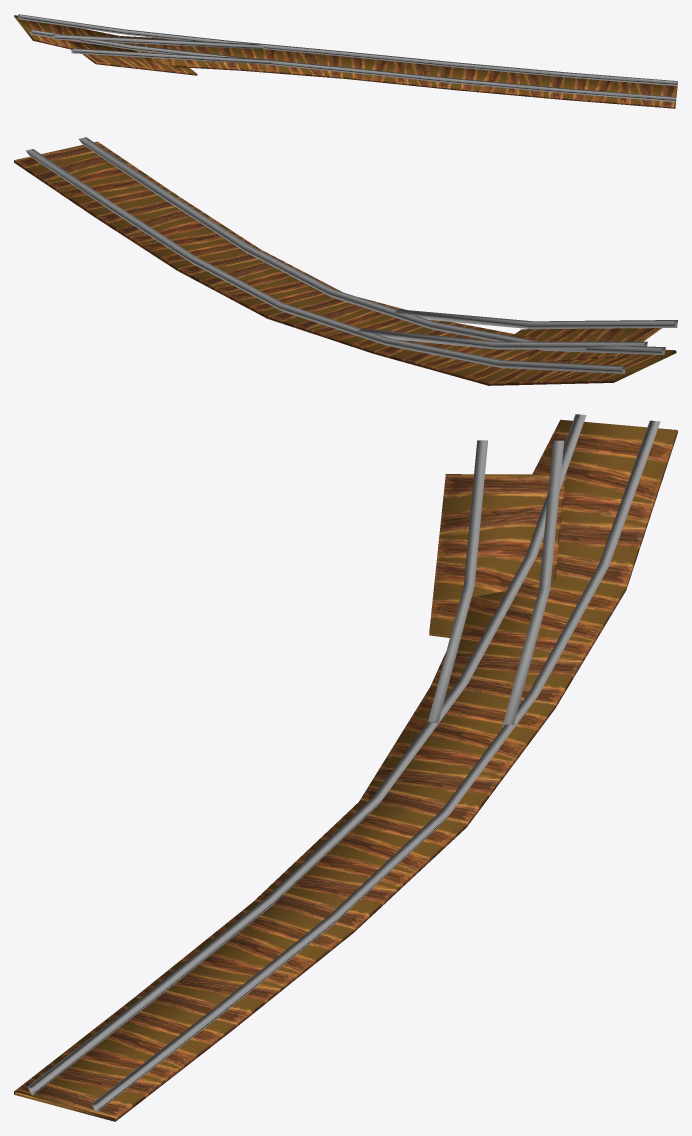
File: SWORDLIGHT20_MAIN1RAILS1N.fbx
3 views of the same model, one above another, from view 1: azimuth 30°, elevation 25°; view 2: azimuth 150°, elevation 25°; view 3: azimuth 270°, elevation 25° (orthographic). The views are drawn at different scales.
Parts seen in each view (by area): view 1: SWORDLIGHT20_MAIN1RAILS1N; view 2: SWORDLIGHT20_MAIN1RAILS1N; view 3: SWORDLIGHT20_MAIN1RAILS1N.
Boxes of the visible parts, x1,y1,x2,y2 form: SWORDLIGHT20_MAIN1RAILS1N: [14, 14, 677, 108]; SWORDLIGHT20_MAIN1RAILS1N: [14, 137, 677, 385]; SWORDLIGHT20_MAIN1RAILS1N: [14, 414, 677, 1121].
Size of the model in its own units: 166000 by 28734 by 89848.
2 materials, 2 textured.
